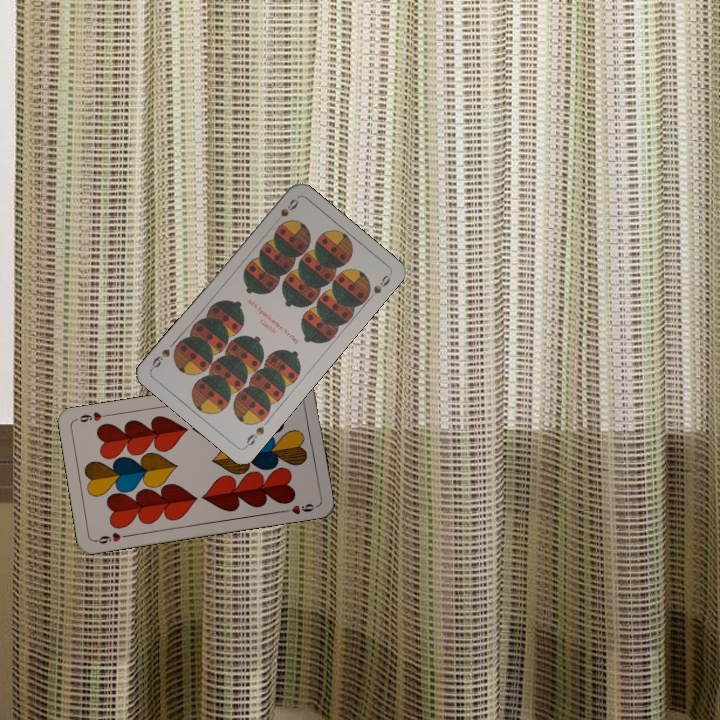H9: (91, 528, 132, 547)
S9: (269, 195, 301, 228), (241, 422, 267, 450)
